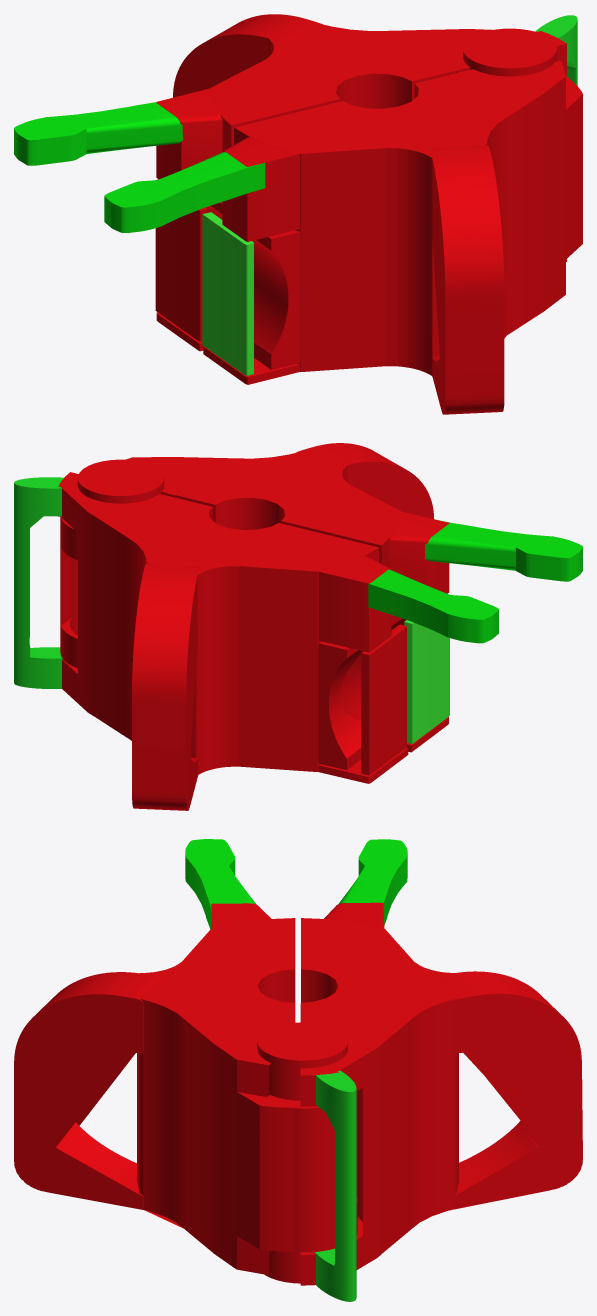
File: Elevador.fbx
The picture shows the model from 3 angles, top to bottom: view 1: azimuth 30°, elevation 25°; view 2: azimuth 150°, elevation 25°; view 3: azimuth 270°, elevation 25°; orthographic projection. The views are drawn at different scales.
Parts seen in each view (by area): view 1: Metade_Direita_Elevador, Metade_Esquerda_Elevador, Gatilho_Elevador; view 2: Metade_Esquerda_Elevador, Metade_Direita_Elevador, Gatilho_Elevador; view 3: Metade_Direita_Elevador, Metade_Esquerda_Elevador.
Part boxes in pixels (left/top/right/bottom): Metade_Direita_Elevador: left=104, top=61, right=582, bottom=414; Metade_Esquerda_Elevador: left=14, top=14, right=577, bottom=351; Gatilho_Elevador: left=202, top=212, right=253, bottom=375; Metade_Esquerda_Elevador: left=14, top=459, right=498, bottom=810; Metade_Direita_Elevador: left=60, top=443, right=582, bottom=752; Gatilho_Elevador: left=404, top=620, right=449, bottom=743; Metade_Direita_Elevador: left=14, top=839, right=357, bottom=1275; Metade_Esquerda_Elevador: left=257, top=839, right=582, bottom=1301.
Size of the model in its own units: 44.85 by 18.42 by 42.6.
